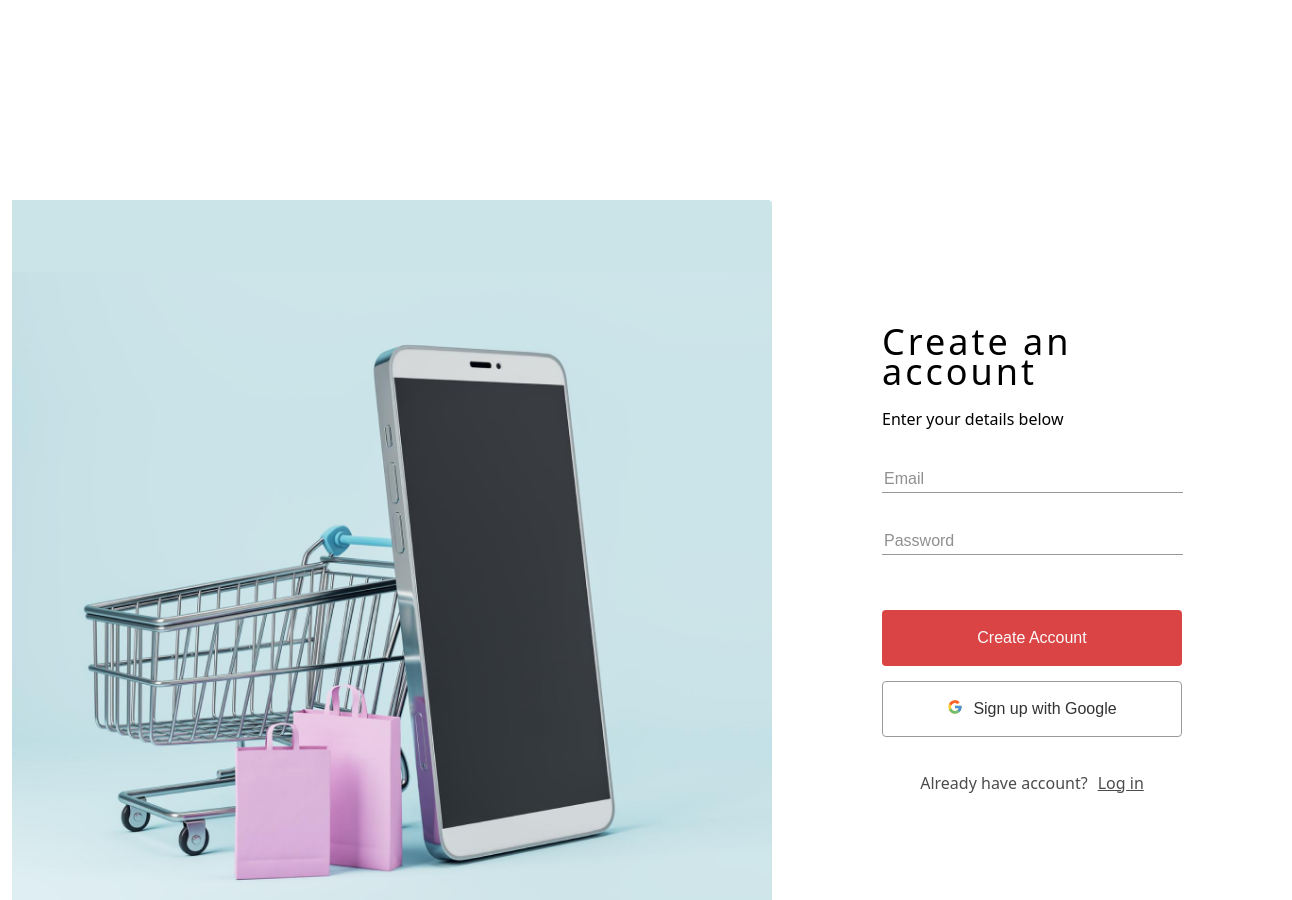
Test case: Register Component › shows warning if password is missing
In the field with placeholder "Email": (1032,479) [882,466,1183,492], type "test@example.com"
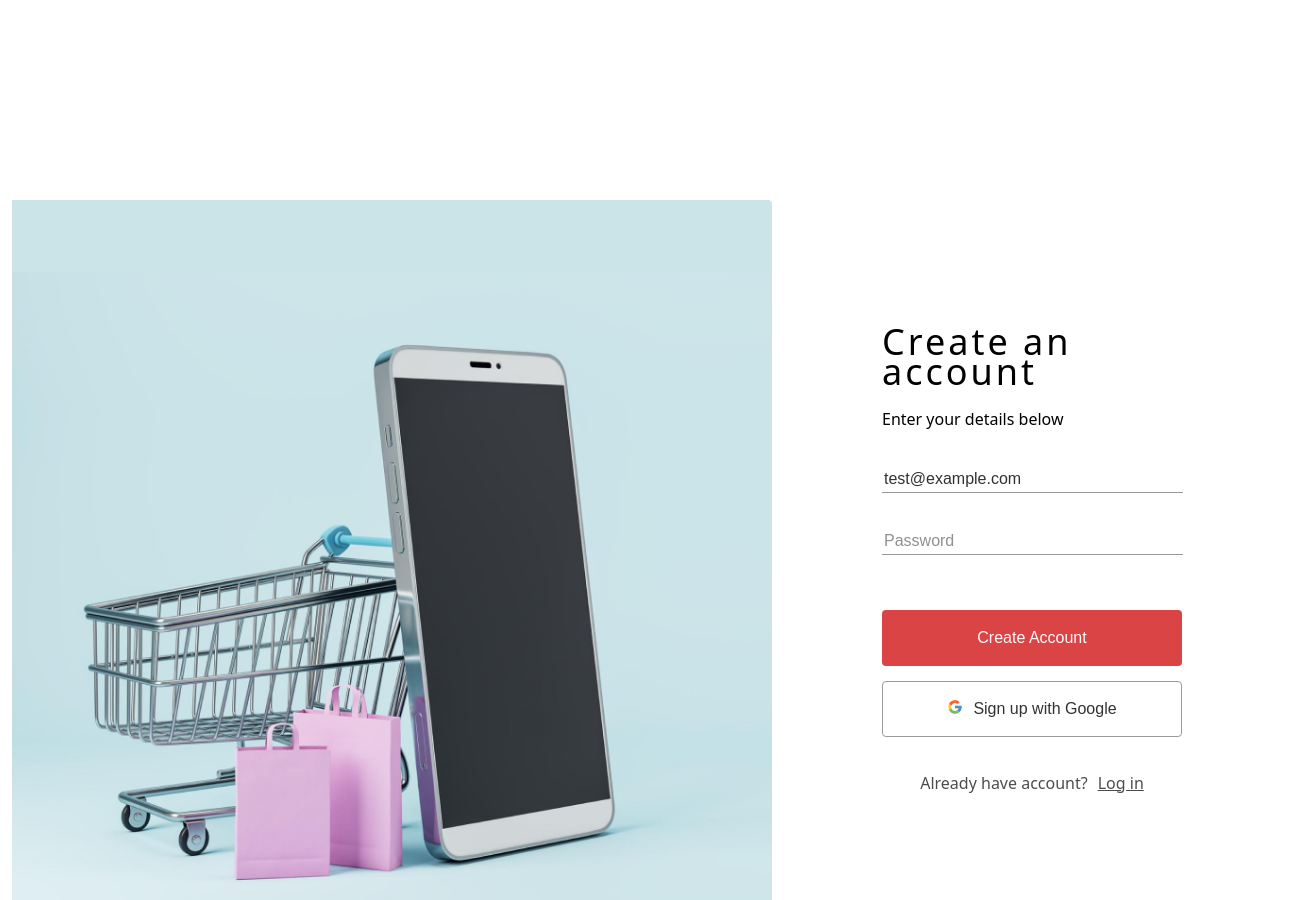
Click the button "Create Account": (1032,638) [882,610,1182,666]
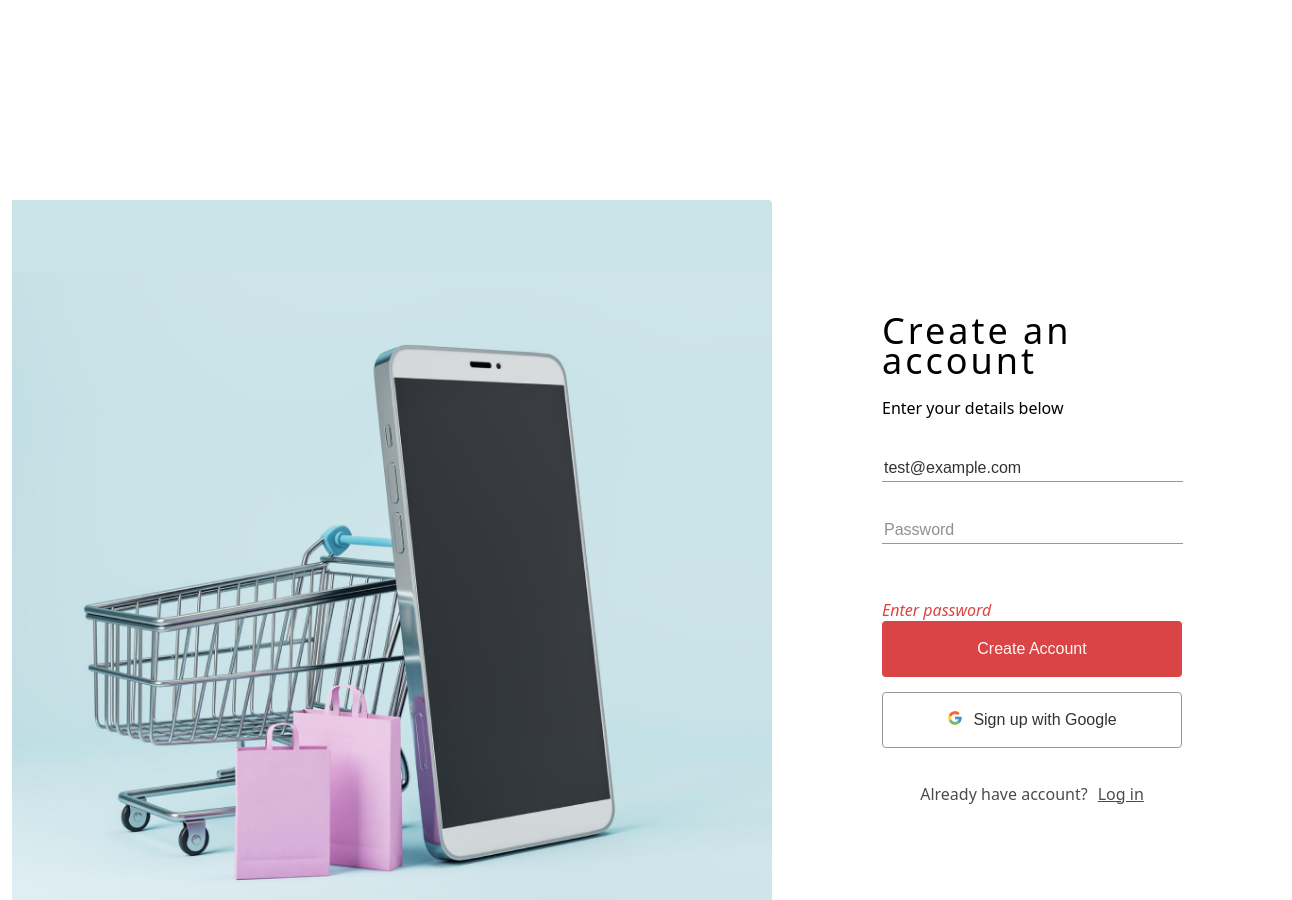
Check: the text "Enter password" is shown, box [882,598,991,620]
